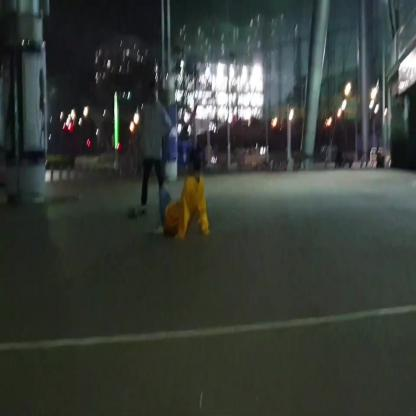Fall_Down: (154, 151, 211, 243)
